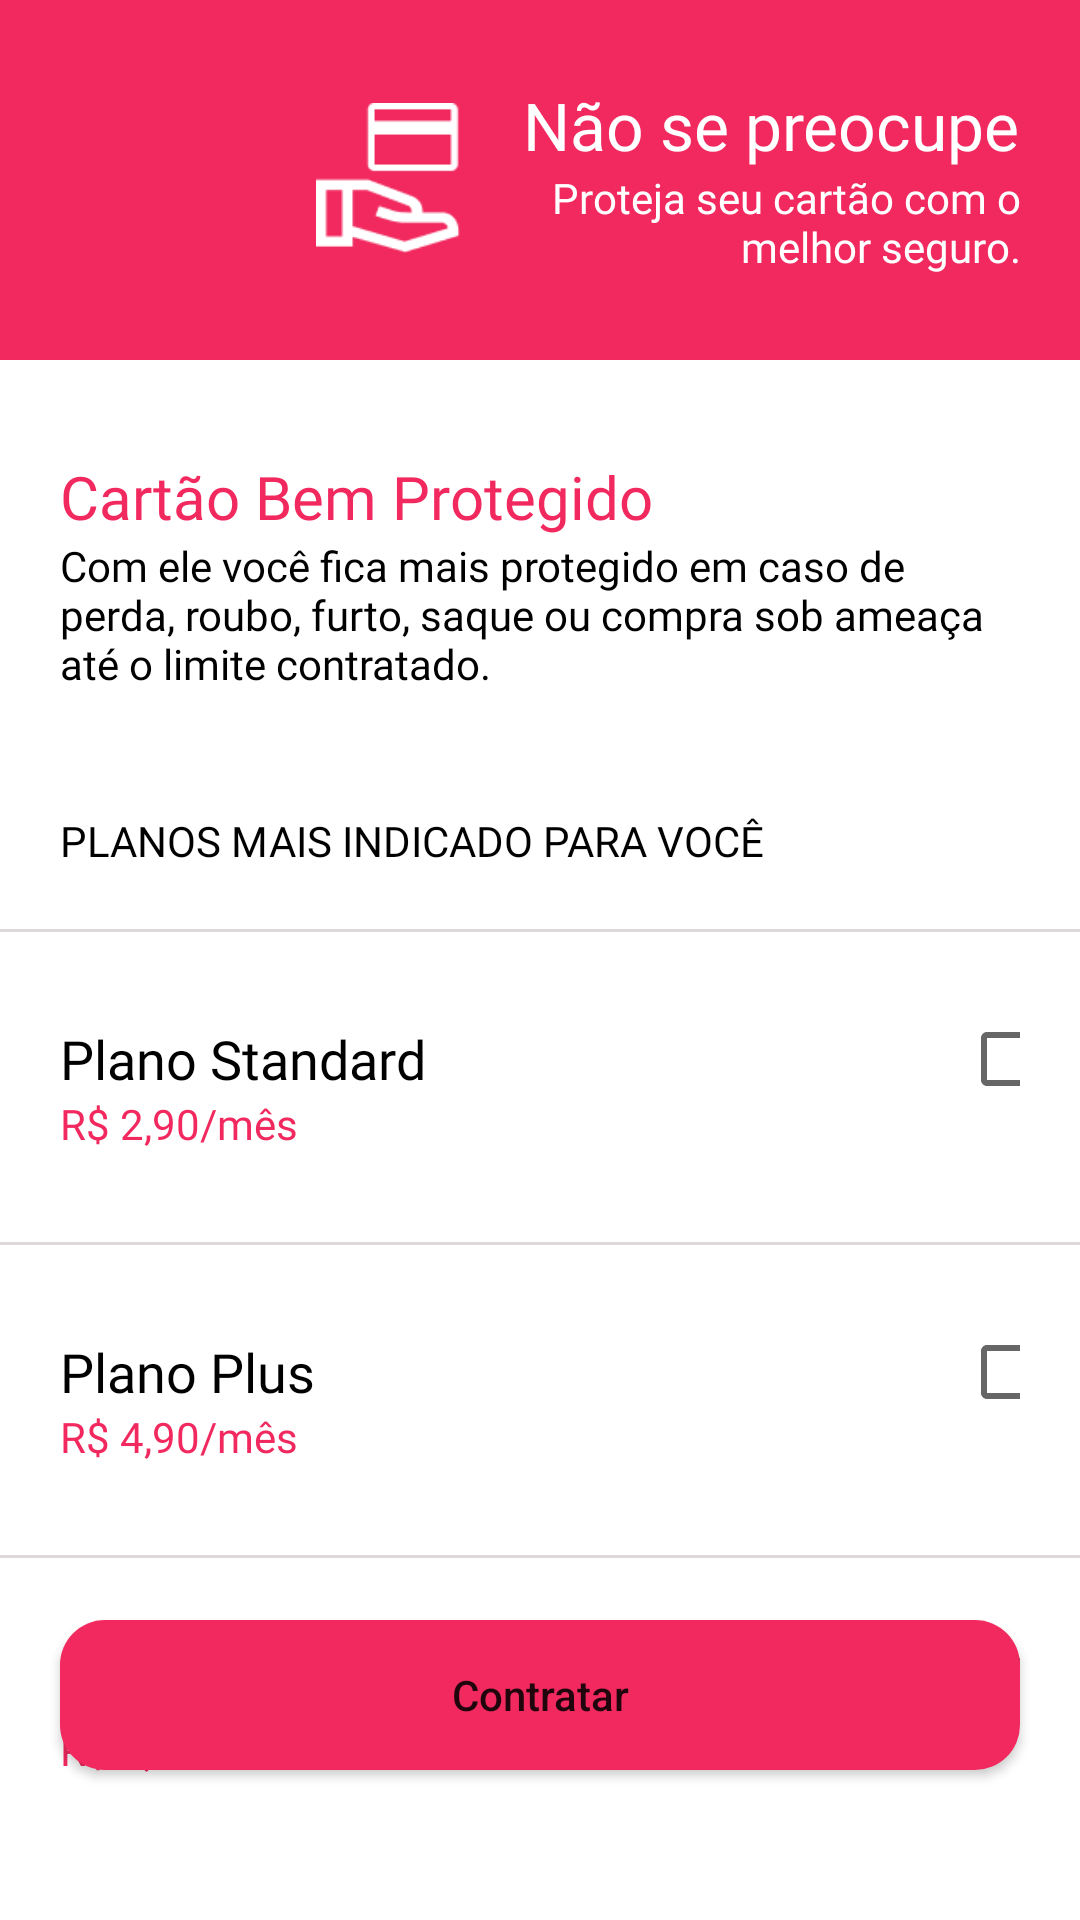

Screen size 1080 × 1920. Icon name, then its box in pixels as (x1, y1, x2, y2):
seguro cartao branco: (316, 103, 460, 253)
